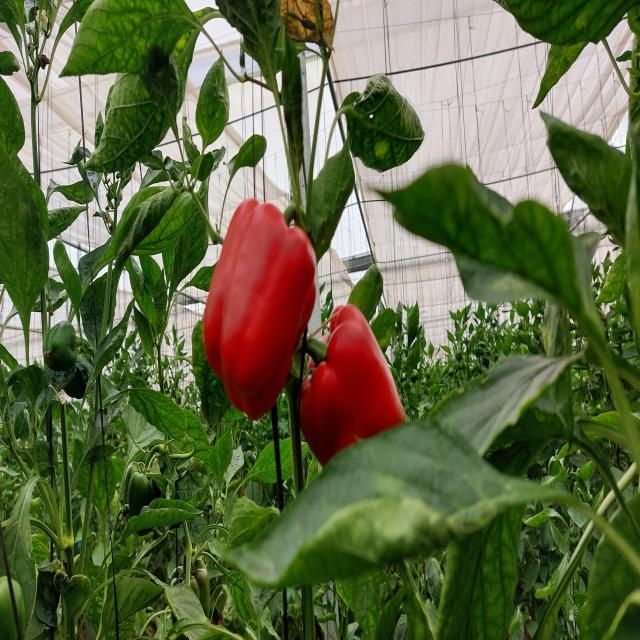Red-Ready-to-Harvest: (198, 197, 318, 420), (302, 295, 433, 496)
